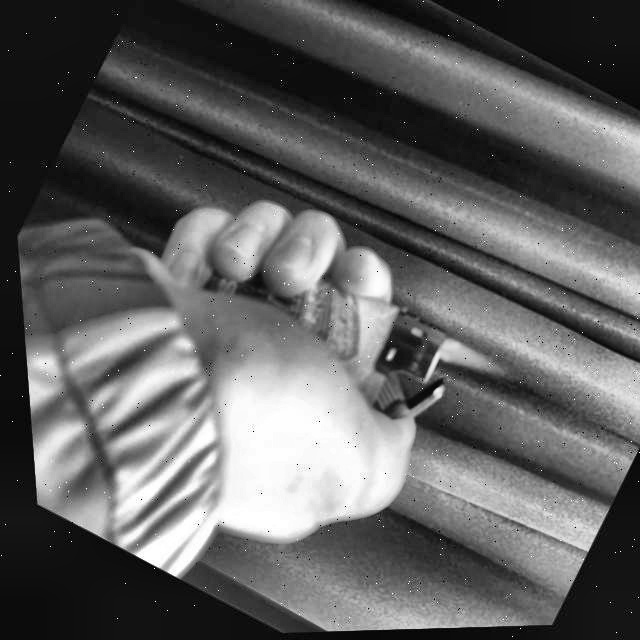Fire: (426, 336, 506, 397)
